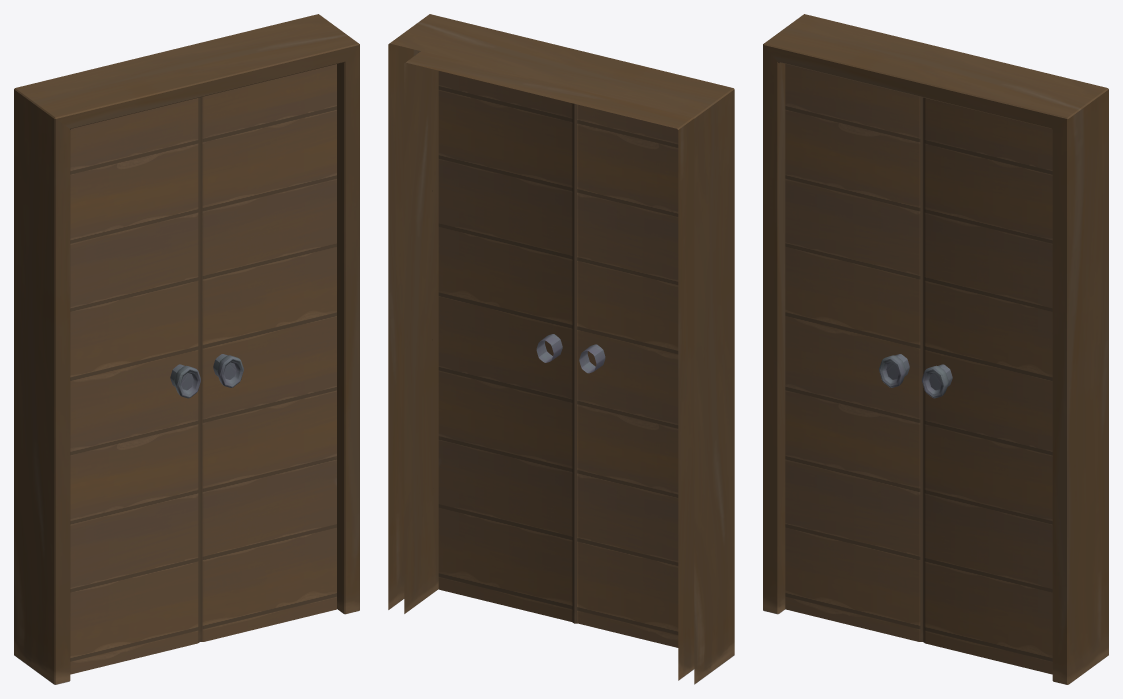
Rendered from Porta_Rico.fbx.
3 renders of one model, left to right at view 1: azimuth 30°, elevation 25°; view 2: azimuth 150°, elevation 25°; view 3: azimuth 330°, elevation 25°, orthographic.
Parts seen in each view (by area): view 1: Porta_Rico_01; view 2: Porta_Rico_01; view 3: Porta_Rico_01.
Part boxes in pixels (bbox=[...]): Porta_Rico_01: bbox=[14, 14, 359, 684]; Porta_Rico_01: bbox=[388, 14, 734, 684]; Porta_Rico_01: bbox=[763, 14, 1108, 684].
Bounding box in the file's own units: 112 × 198 × 28.19.
